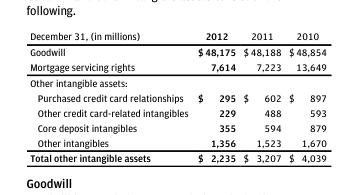table: (29, 29, 326, 163)
table column: (29, 29, 192, 163), (192, 29, 238, 163), (238, 29, 284, 163), (284, 29, 326, 163)
table column header: (29, 29, 326, 43)
table projected row header: (29, 74, 326, 89)
table row: (29, 43, 326, 59), (29, 119, 326, 135), (29, 59, 326, 74), (29, 74, 326, 89), (29, 89, 326, 104), (29, 104, 326, 119), (29, 135, 326, 150), (29, 29, 326, 43), (29, 150, 326, 163)
